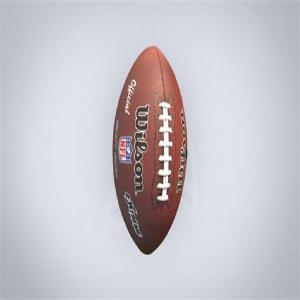Rugby: (112, 45, 187, 255)
